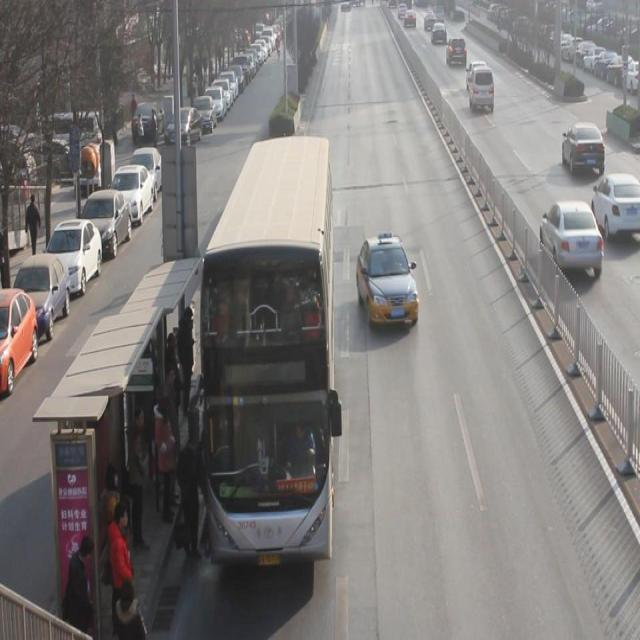car: (358, 229, 422, 329), (542, 193, 606, 274), (594, 166, 640, 230), (564, 117, 608, 170), (448, 30, 471, 61), (469, 54, 490, 74), (434, 15, 450, 37), (406, 1, 419, 22), (426, 8, 439, 23)
truck: (470, 60, 497, 107)
van: (206, 131, 338, 550)
